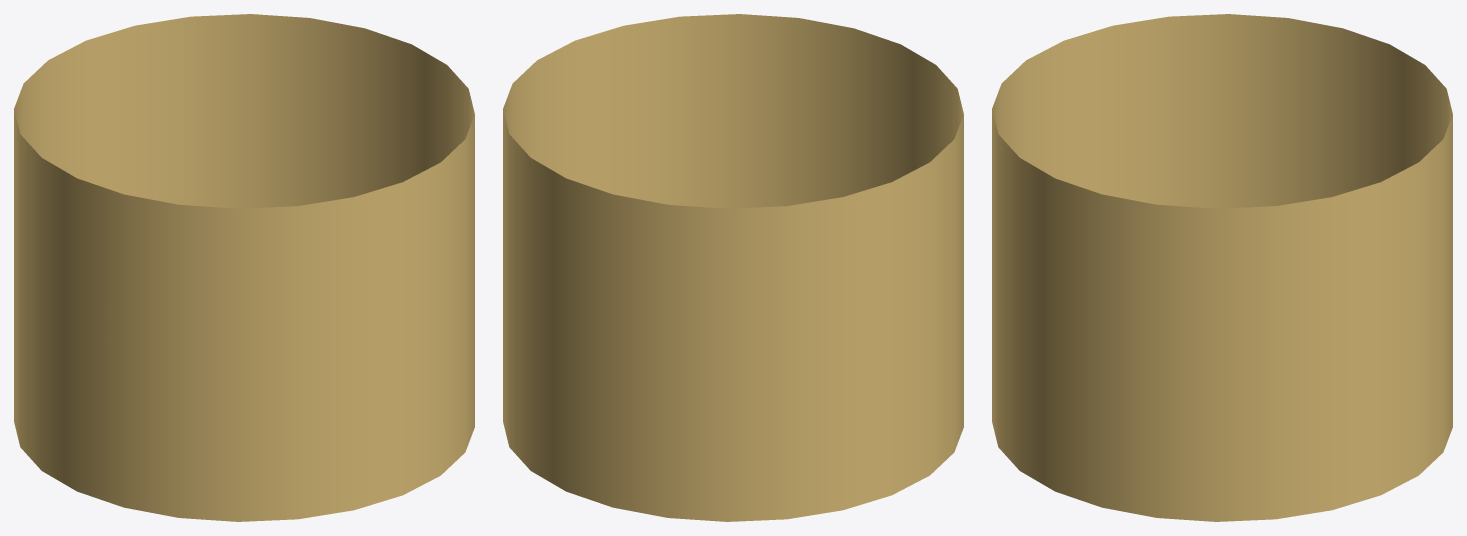
Rendered from original-41.obj.
3 views of the same model, side by side, from view 1: azimuth 30°, elevation 25°; view 2: azimuth 150°, elevation 25°; view 3: azimuth 270°, elevation 25° (orthographic).
Parts seen in each view (by area): view 1: #ID213; view 2: #ID213; view 3: #ID213.
Boxes of the visible parts, x1,y1,x2,y2 form: #ID213: (14, 14, 474, 521); #ID213: (503, 14, 963, 521); #ID213: (992, 14, 1452, 521).
Size of the model in its own units: 0.0468 by 0.0351 by 0.0468.
